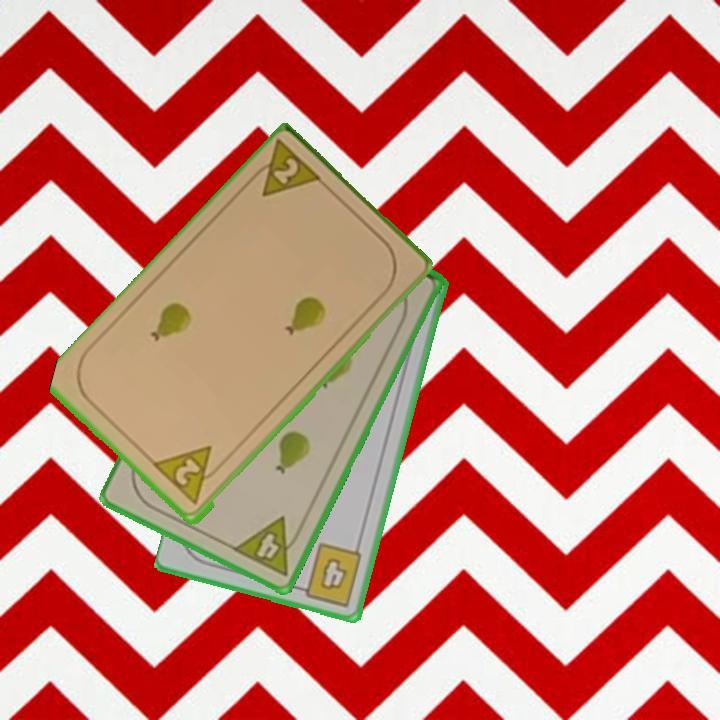2p: (243, 138, 327, 201), (151, 442, 227, 510)
4b: (292, 539, 366, 610)
4p: (229, 513, 307, 579)
